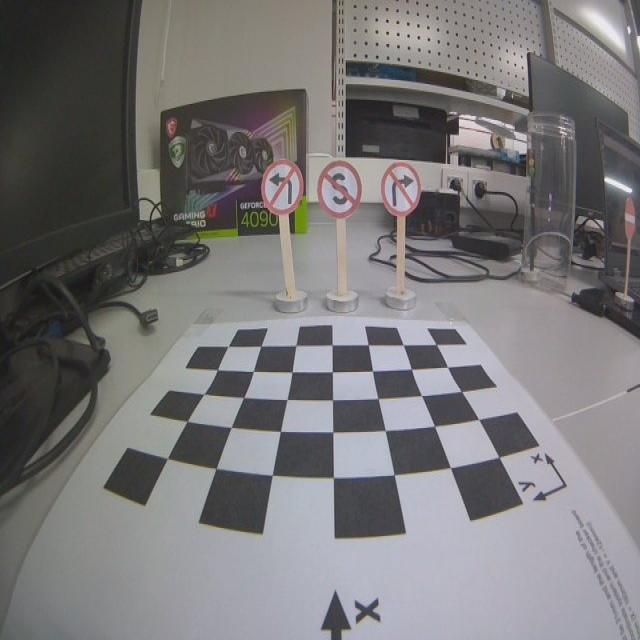Dilarang Belok Kanan: (380, 162, 421, 218)
Dilarang Belok Kiri: (261, 159, 303, 216)
Rambu Berhenti: (317, 160, 361, 219)
